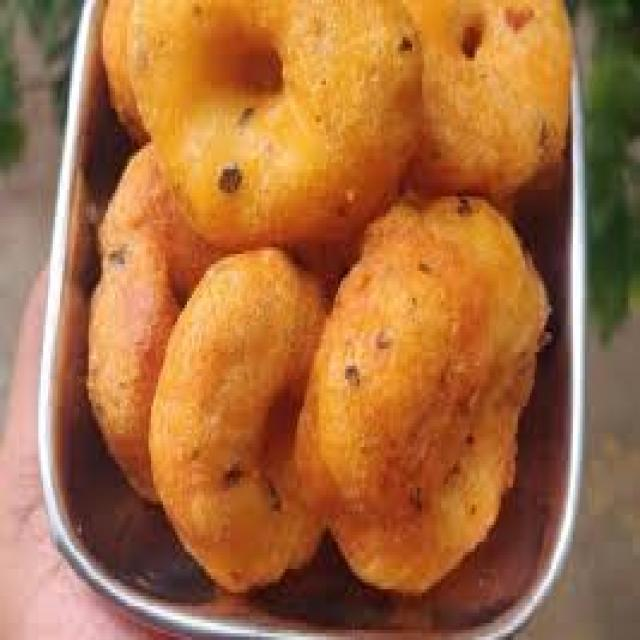MEDU VADA: (304, 192, 545, 604), (131, 2, 418, 250), (144, 253, 324, 585), (90, 156, 217, 501), (411, 0, 571, 194)
